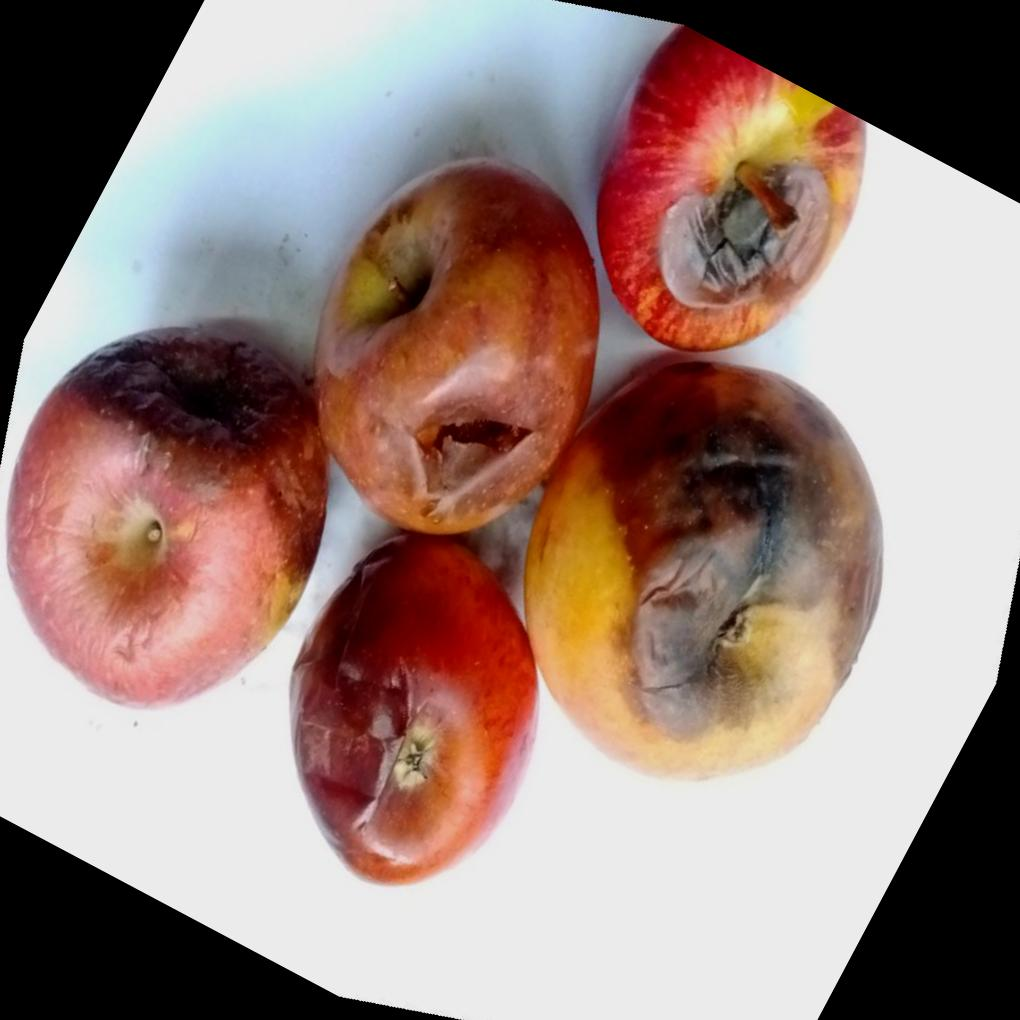FreshOrange: (2, 23, 883, 890)
